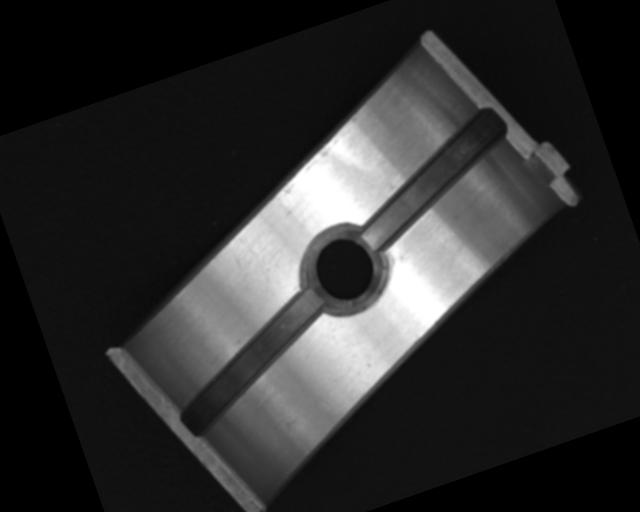gap: (154, 283, 348, 439), (336, 104, 528, 254)
hole: (294, 214, 393, 325)
